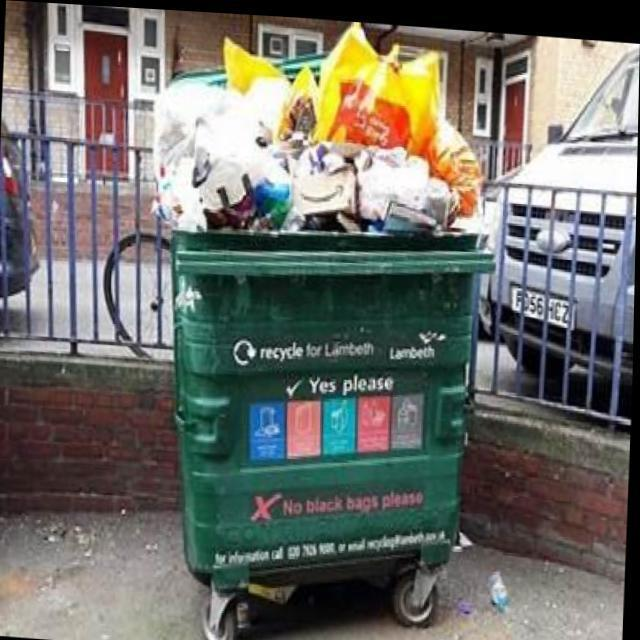Garbage: (154, 19, 482, 227)
Plastic_Bag: (316, 17, 482, 207), (154, 71, 293, 227), (223, 34, 282, 90), (280, 61, 318, 132)
